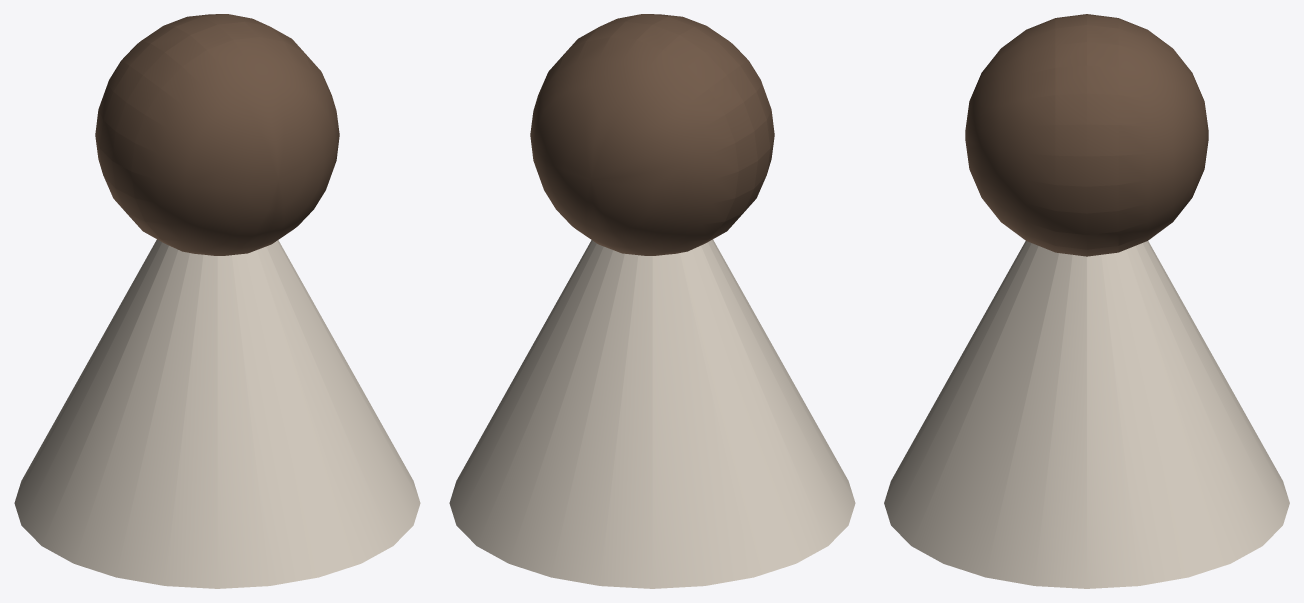
The model's file is figure_3.fbx.
3 renders of one model, left to right at view 1: azimuth 30°, elevation 25°; view 2: azimuth 150°, elevation 25°; view 3: azimuth 270°, elevation 25°, orthographic.
Visible parts, largest first — view 1: cylinder_cone_8, sphere_full_9; view 2: cylinder_cone_8, sphere_full_9; view 3: cylinder_cone_8, sphere_full_9.
Part boxes in pixels (box(x1,y1,x2,y2)): cylinder_cone_8: box(14, 239, 420, 588); sphere_full_9: box(95, 14, 339, 255); cylinder_cone_8: box(449, 239, 855, 588); sphere_full_9: box(530, 14, 774, 255); cylinder_cone_8: box(884, 241, 1289, 588); sphere_full_9: box(965, 14, 1208, 256).
Size of the model in its own units: 10 by 13 by 10.
